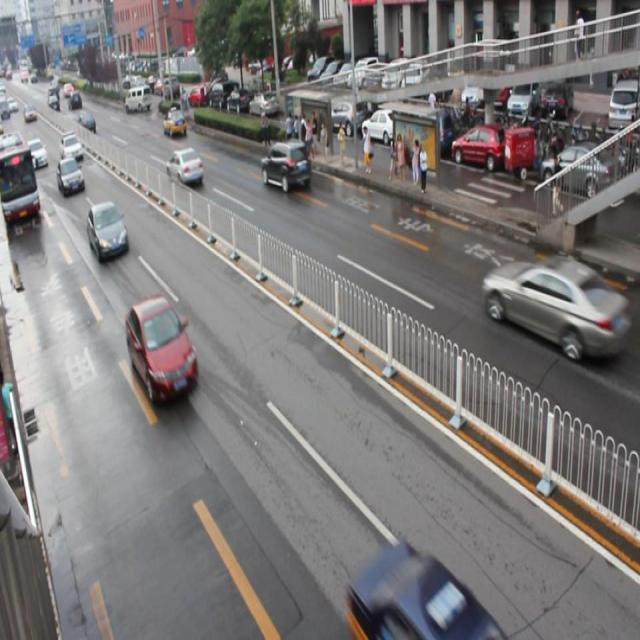car: (482, 250, 628, 364), (343, 541, 507, 640), (124, 296, 198, 404), (260, 137, 309, 192), (87, 201, 129, 262), (167, 146, 203, 184), (56, 158, 84, 193), (163, 106, 186, 137)
van: (1, 133, 41, 224)
